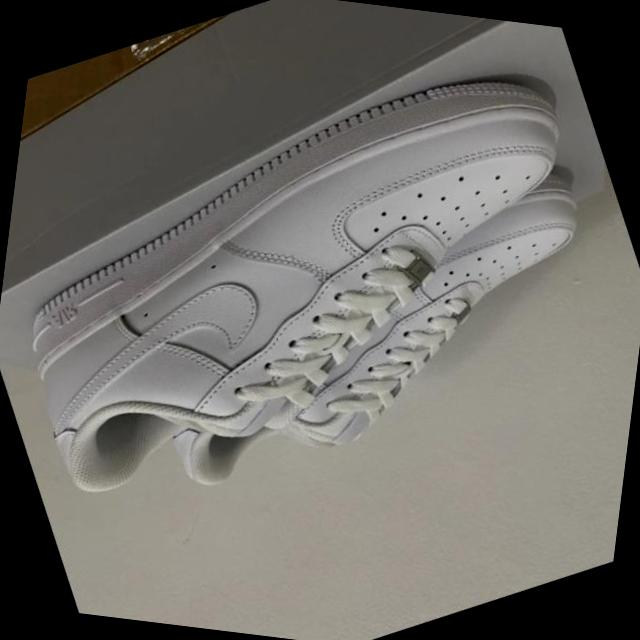nike_original_airforce: (0, 0, 640, 577), (107, 113, 640, 546)
